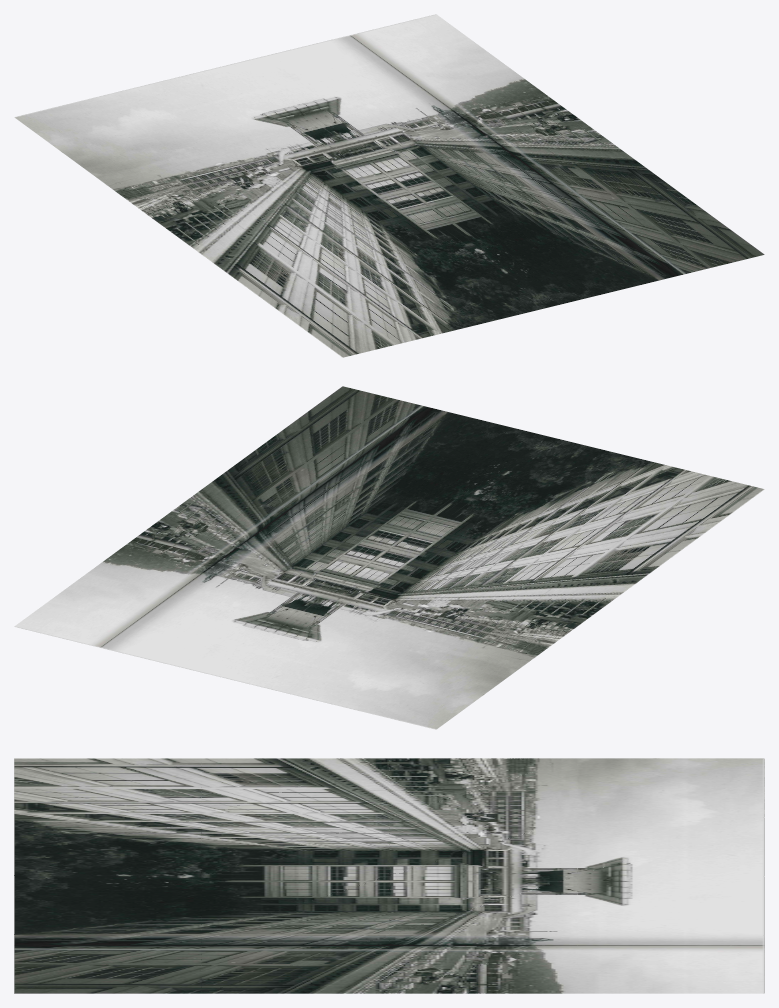
File: chiara.obj
3 views of the same model, one above another, from view 1: azimuth 30°, elevation 25°; view 2: azimuth 150°, elevation 25°; view 3: azimuth 270°, elevation 25° (orthographic). The views are drawn at different scales.
Visible parts, largest first — view 1: Plane002; view 2: Plane002; view 3: Plane002.
Part boxes in pixels (left/top/right/bottom): Plane002: left=14, top=14, right=764, bottom=357; Plane002: left=14, top=386, right=764, bottom=729; Plane002: left=14, top=758, right=764, bottom=993.
Size of the model in its own units: 3.79 by 0 by 5.11.
